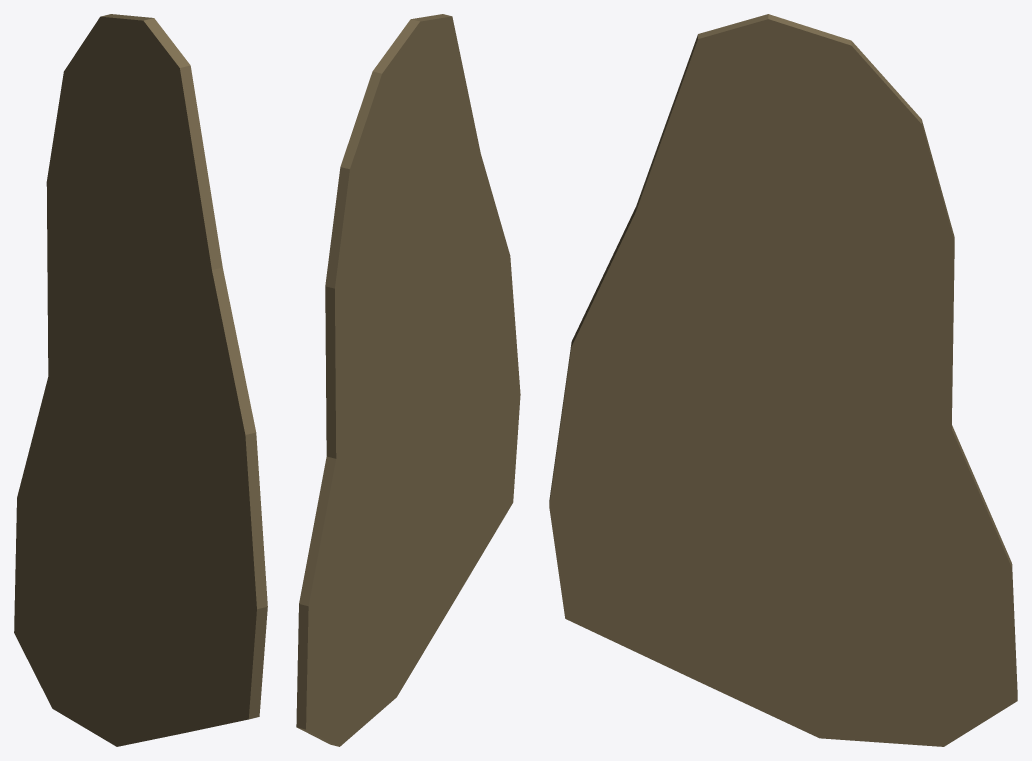
File: Menina4.fbx
3 views of the same model, side by side, from view 1: azimuth 30°, elevation 25°; view 2: azimuth 150°, elevation 25°; view 3: azimuth 270°, elevation 25° (orthographic). The views are drawn at different scales.
Parts seen in each view (by area): view 1: Plane; view 2: Plane; view 3: Plane.
Part boxes in pixels (bbox=[...]): Plane: bbox=[14, 14, 267, 746]; Plane: bbox=[296, 14, 520, 746]; Plane: bbox=[549, 14, 1017, 746].
Bounding box in the file's own units: 1.64 × 109 × 63.55.
